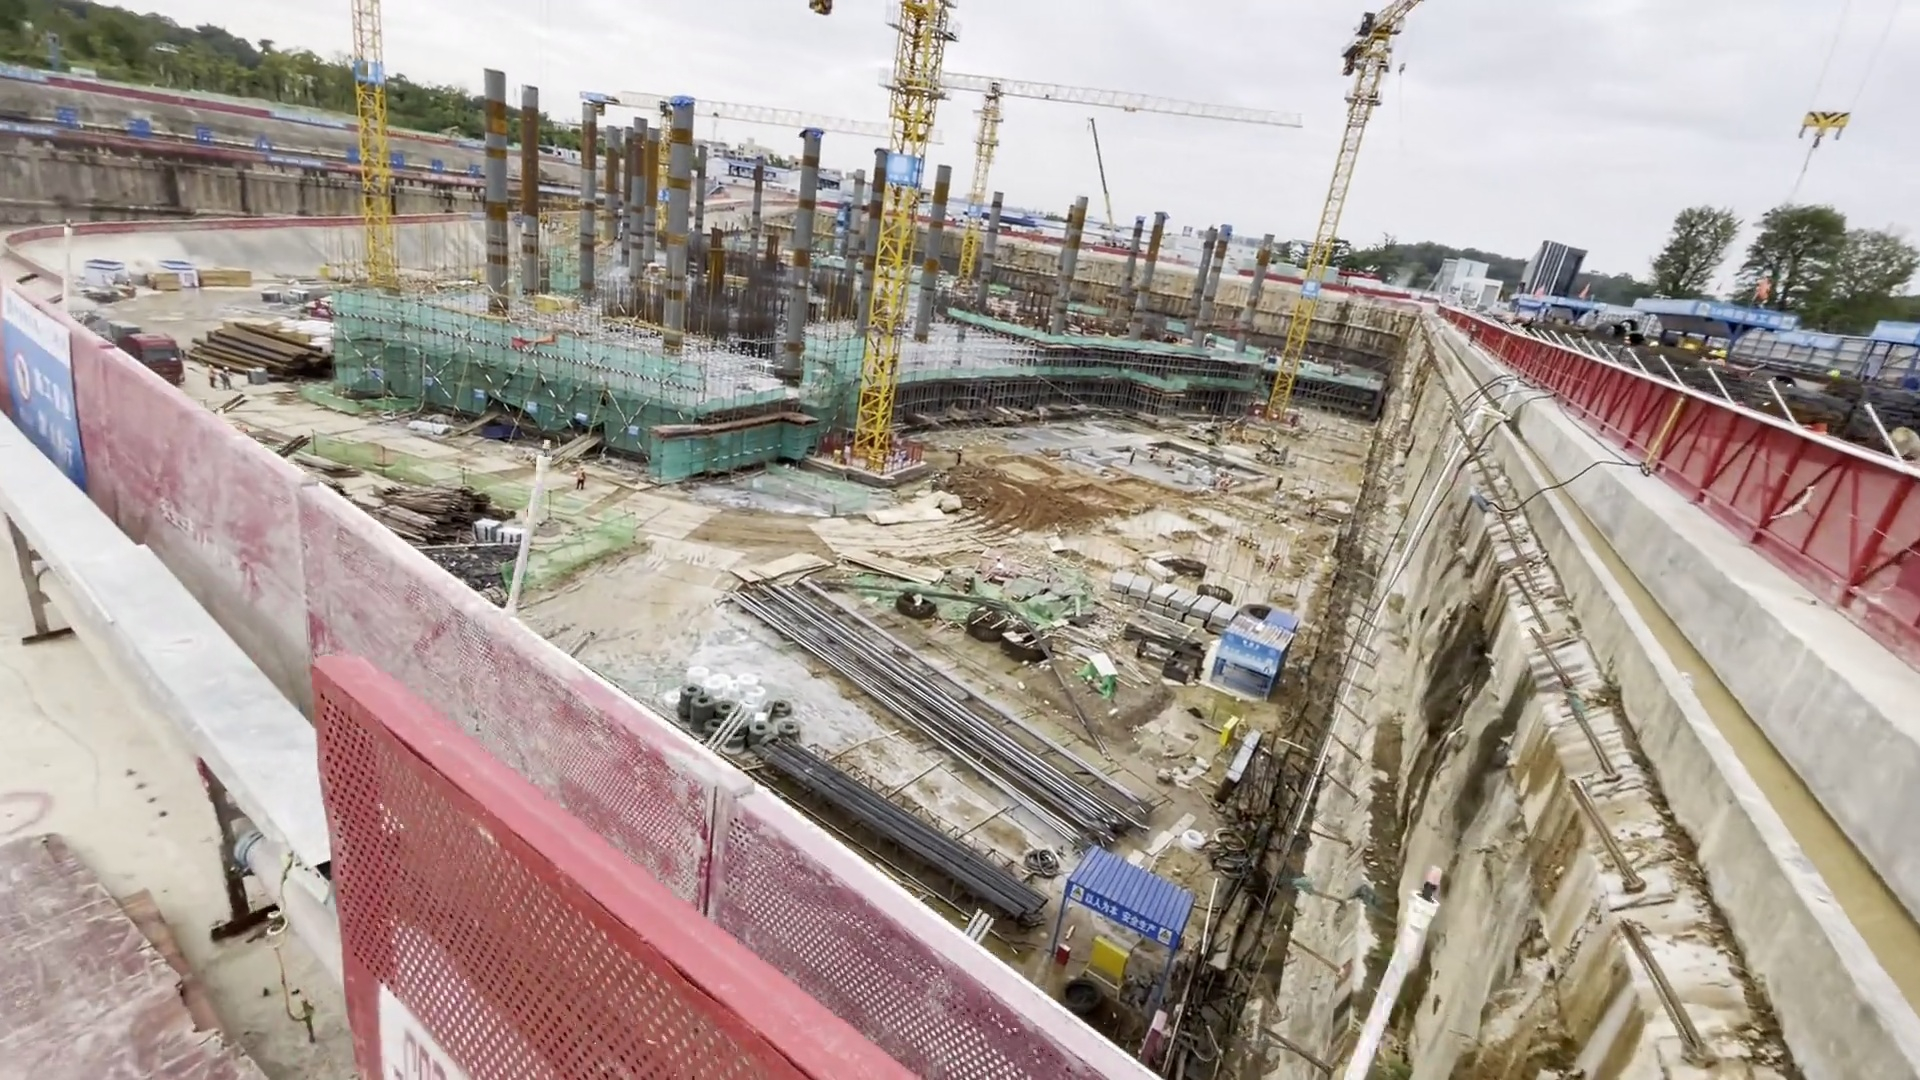brick: (1103, 579, 1231, 648), (478, 513, 527, 550)
ebox: (866, 455, 883, 472)
fence: (139, 432, 707, 925), (1590, 383, 1920, 586)
helmet: (1683, 341, 1701, 352), (1714, 346, 1728, 357), (1827, 366, 1841, 377), (221, 365, 229, 370), (579, 464, 586, 469)
hook: (1795, 107, 1851, 144)
hopper: (480, 424, 522, 443)
person: (569, 462, 594, 499), (218, 362, 233, 390), (206, 360, 219, 390), (1128, 446, 1139, 468), (953, 444, 964, 468)
rebar: (770, 745, 1050, 937)
slogan: (3, 335, 77, 485), (53, 109, 274, 153), (1075, 888, 1166, 937)
vest: (575, 470, 587, 483)
wood: (387, 475, 473, 532)
